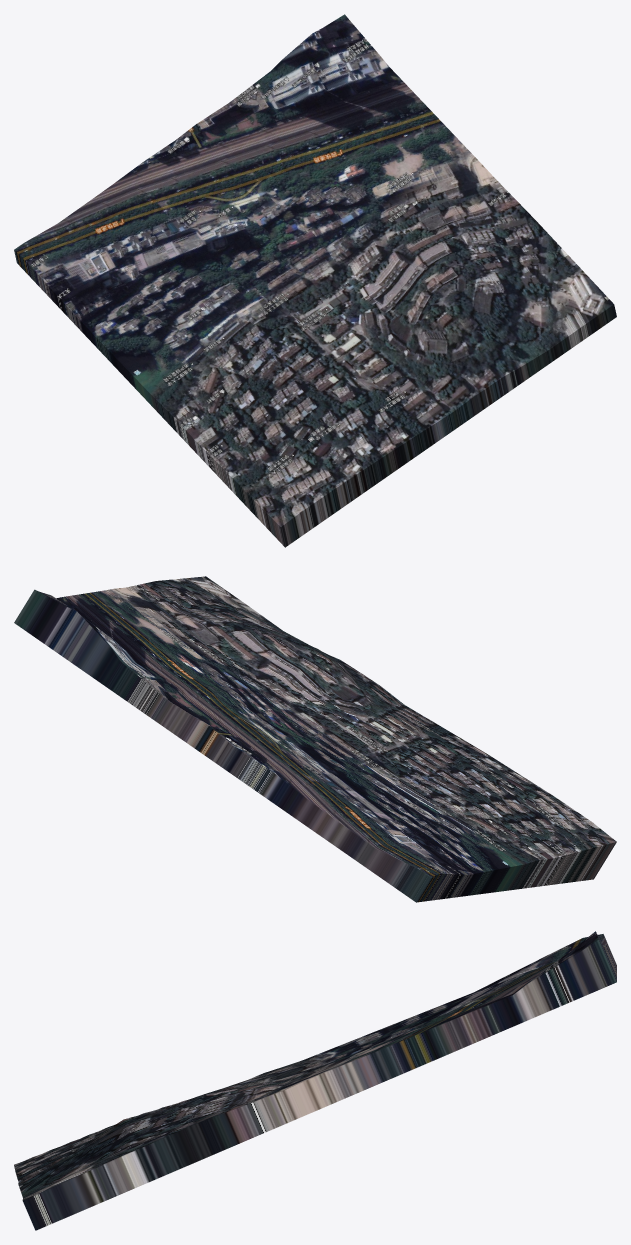
3 views of the same model, one above another, from view 1: azimuth 30°, elevation 25°; view 2: azimuth 150°, elevation 25°; view 3: azimuth 270°, elevation 25° (orthographic). The views are drawn at different scales.
Parts seen in each view (by area): view 1: 0_5_25; view 2: 0_5_25; view 3: 0_5_25.
Part boxes in pixels (x1=…): 0_5_25: x1=14, y1=14, x2=616, y2=547; 0_5_25: x1=14, y1=576, x2=616, y2=902; 0_5_25: x1=14, y1=931, x2=616, y2=1230.
Size of the model in its own units: 604 by 465 by 562.
1 material, 1 textured.
